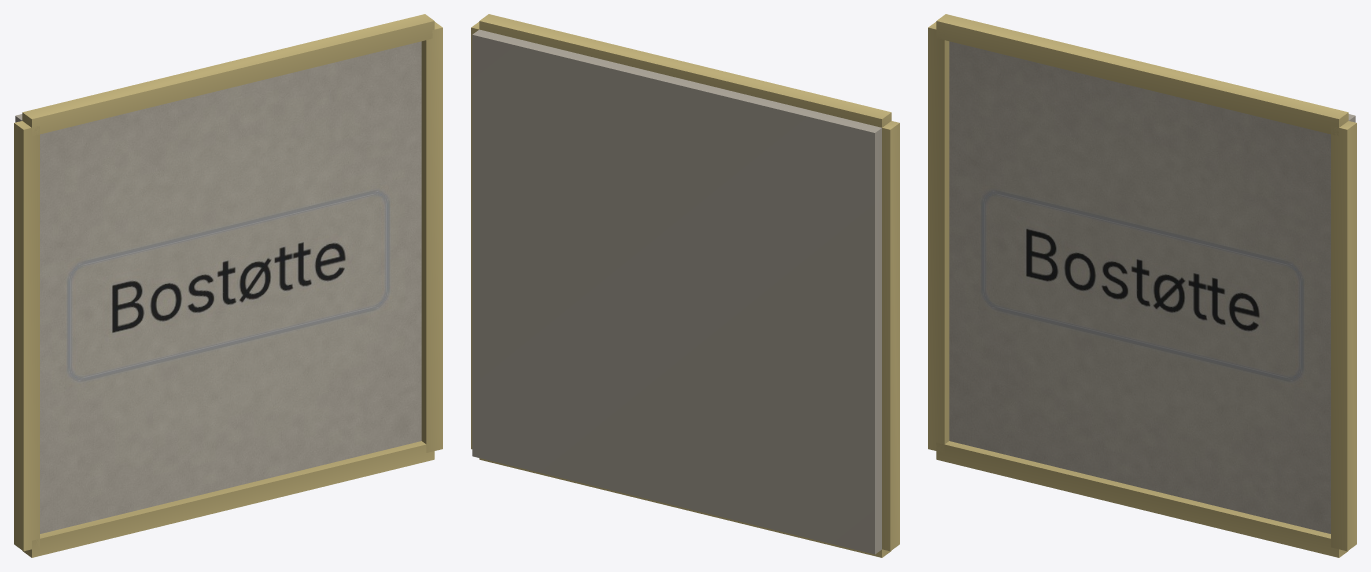
File: gallery_tag.glb
The picture shows the model from 3 angles, left to right: view 1: azimuth 30°, elevation 25°; view 2: azimuth 150°, elevation 25°; view 3: azimuth 330°, elevation 25°; orthographic projection.
Parts seen in each view (by area): view 1: plate; view 2: plate; view 3: plate.
Part boxes in pixels (box(x1,y1,x2,y2)): plate: box(14, 14, 442, 557); plate: box(471, 14, 899, 557); plate: box(928, 14, 1356, 557).
Size of the model in its own units: 0.51 by 0.51 by 0.035.
2 materials, 1 textured.
